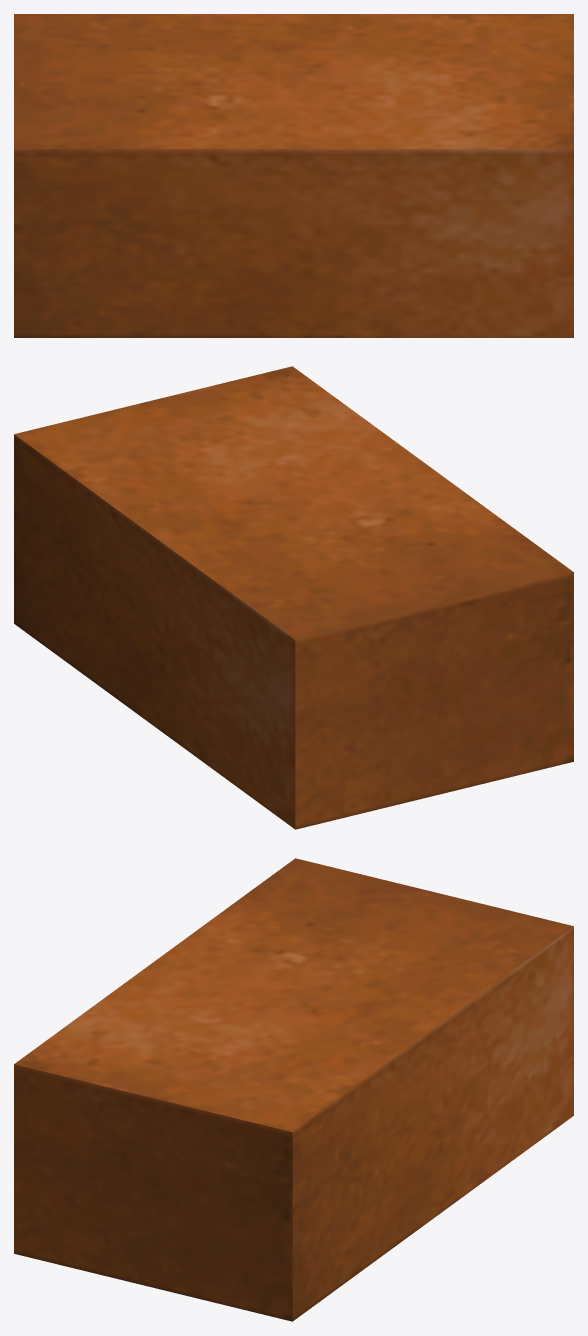
3 views of the same model, one above another, from view 1: azimuth 30°, elevation 25°; view 2: azimuth 150°, elevation 25°; view 3: azimuth 270°, elevation 25° (orthographic).
Parts seen in each view (by area): view 1: Joint_0_Object_0; view 2: Joint_0_Object_0; view 3: Joint_0_Object_0.
Part boxes in pixels (x1=…): Joint_0_Object_0: x1=14, y1=14, x2=573, y2=337; Joint_0_Object_0: x1=14, y1=366, x2=573, y2=829; Joint_0_Object_0: x1=14, y1=858, x2=573, y2=1321.
Size of the model in its own units: 533 by 172 by 461.
1 material, 1 textured.
